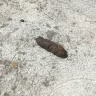Dog: (37, 35, 68, 56)
